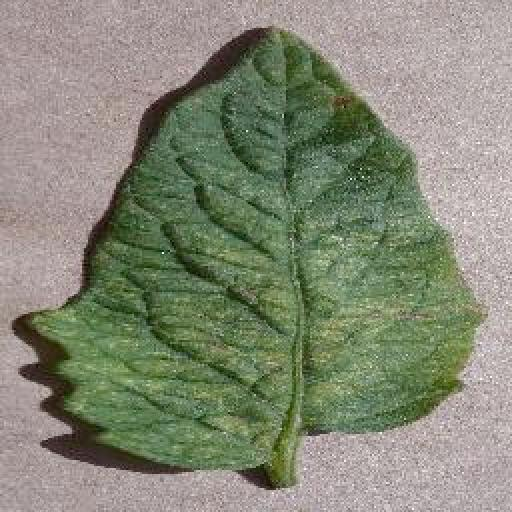disease_tomato: (32, 26, 486, 466)
